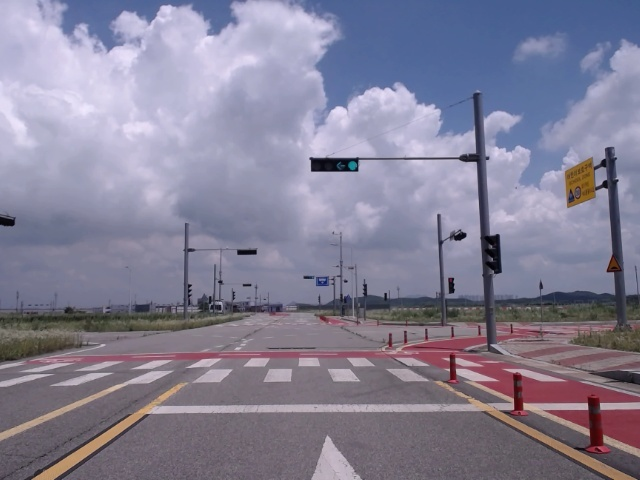all_green_4: (309, 158, 355, 172)
